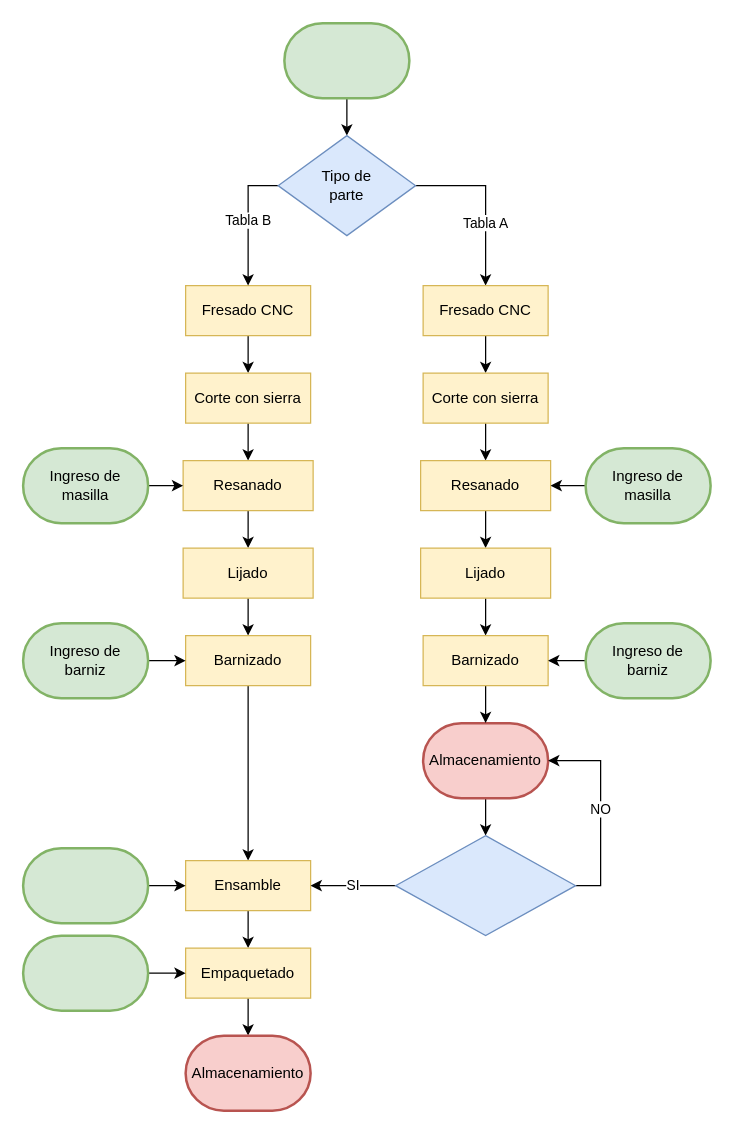
Some shapes in this 733 by 1133 pixel diagram are drawn without their labels. The shapes that lost their labels are listed below. From the top down, each one's centre as x and y in pixels, then its label:
At point 346,60: "Ingreso de madera".
At point 85,885: "Ingreso de cojín y cabuya".
At point 485,885: "¿Hay tablas tipo B disponibles?".
At point 85,972: "Ingreso de Cajas".
